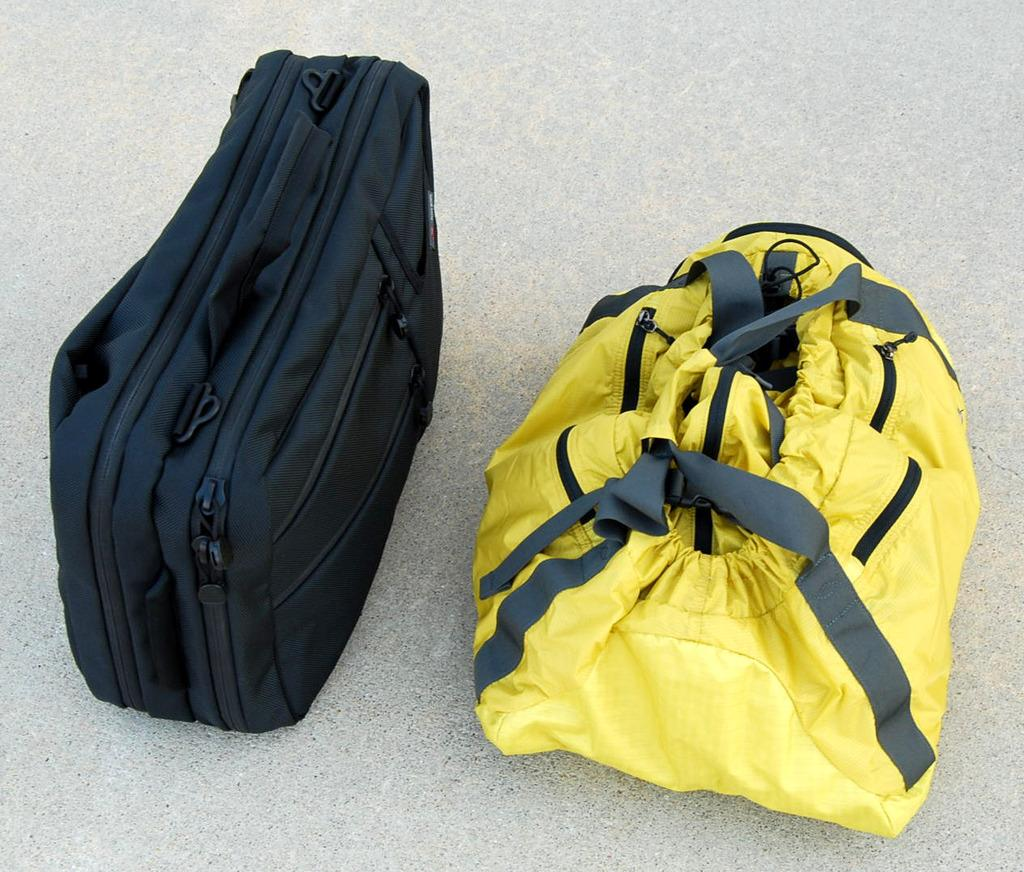Luggage-and-bags: (35, 0, 485, 735), (472, 223, 979, 836)
